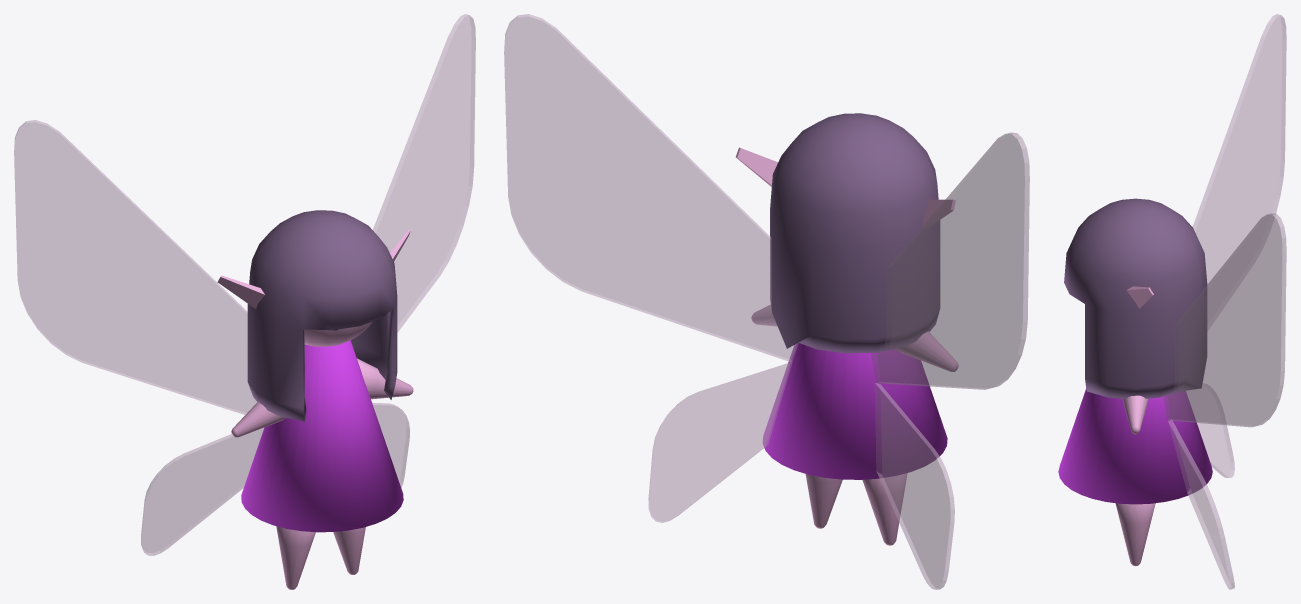
File: fairyShyness.fbx
3 renders of one model, left to right at view 1: azimuth 30°, elevation 25°; view 2: azimuth 150°, elevation 25°; view 3: azimuth 270°, elevation 25°, orthographic. The views are drawn at different scales.
Visible parts, largest first — view 1: Fairy - Shyness; view 2: Fairy - Shyness; view 3: Fairy - Shyness.
Part boxes in pixels (x1=…): Fairy - Shyness: x1=14, y1=14, x2=475, y2=589; Fairy - Shyness: x1=504, y1=14, x2=1029, y2=589; Fairy - Shyness: x1=1058, y1=14, x2=1286, y2=589.
Size of the model in its own units: 45.34 by 20.45 by 43.02.
